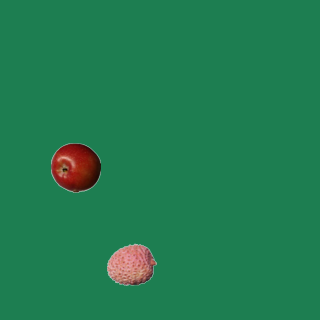Apple Braeburn: (50, 142, 100, 192)
Lychee: (106, 239, 156, 289)
